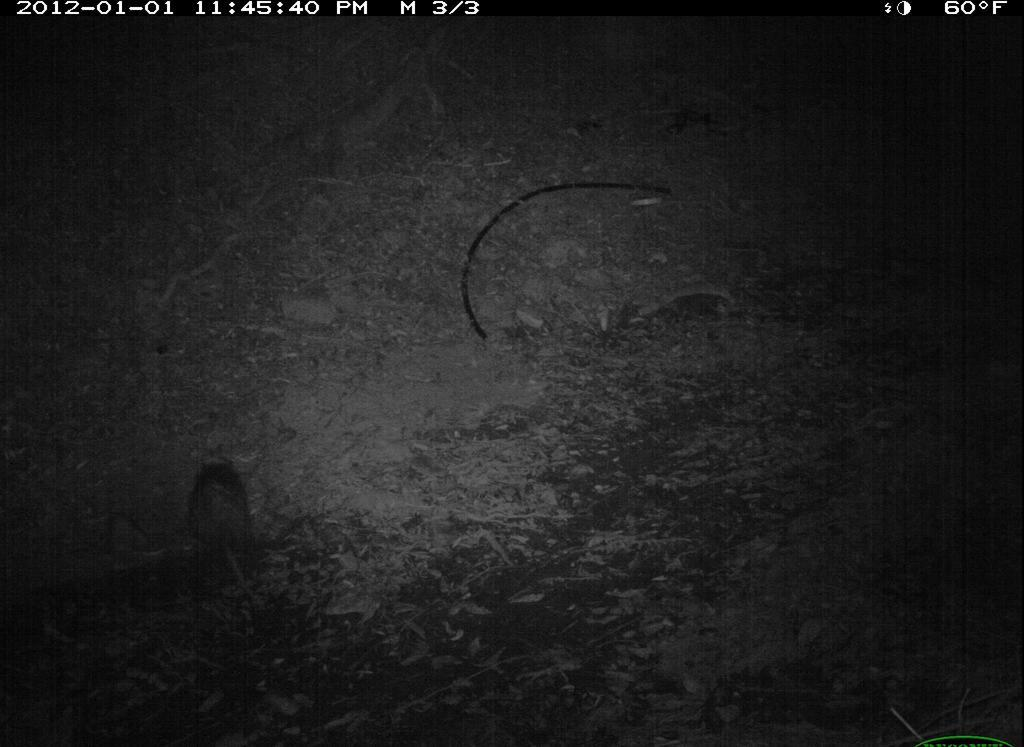opossum: (180, 449, 300, 624)
